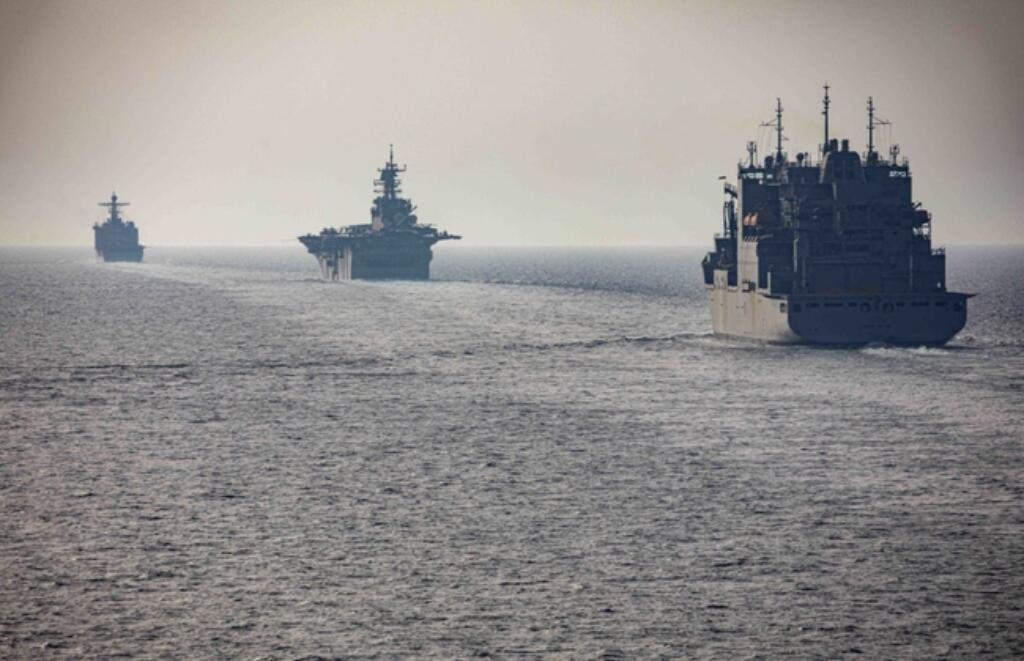Warship: (694, 77, 994, 365), (289, 139, 465, 293), (84, 173, 162, 269)
